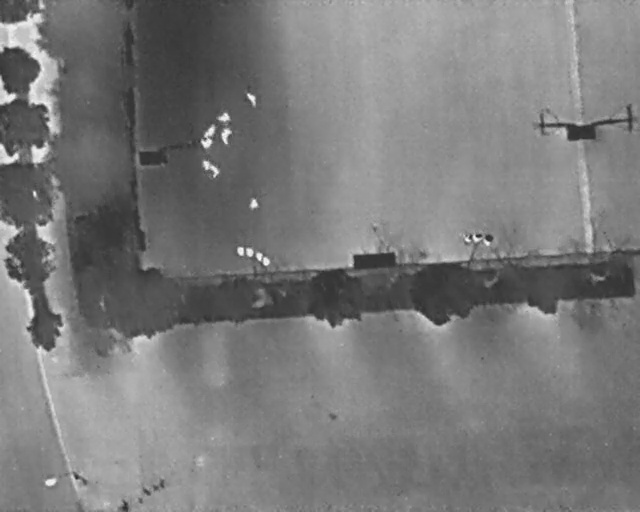Person: (221, 127, 232, 145), (246, 91, 256, 107), (217, 111, 230, 122), (249, 197, 258, 211), (201, 138, 212, 149), (211, 164, 219, 179), (207, 123, 215, 137), (202, 159, 210, 170)
